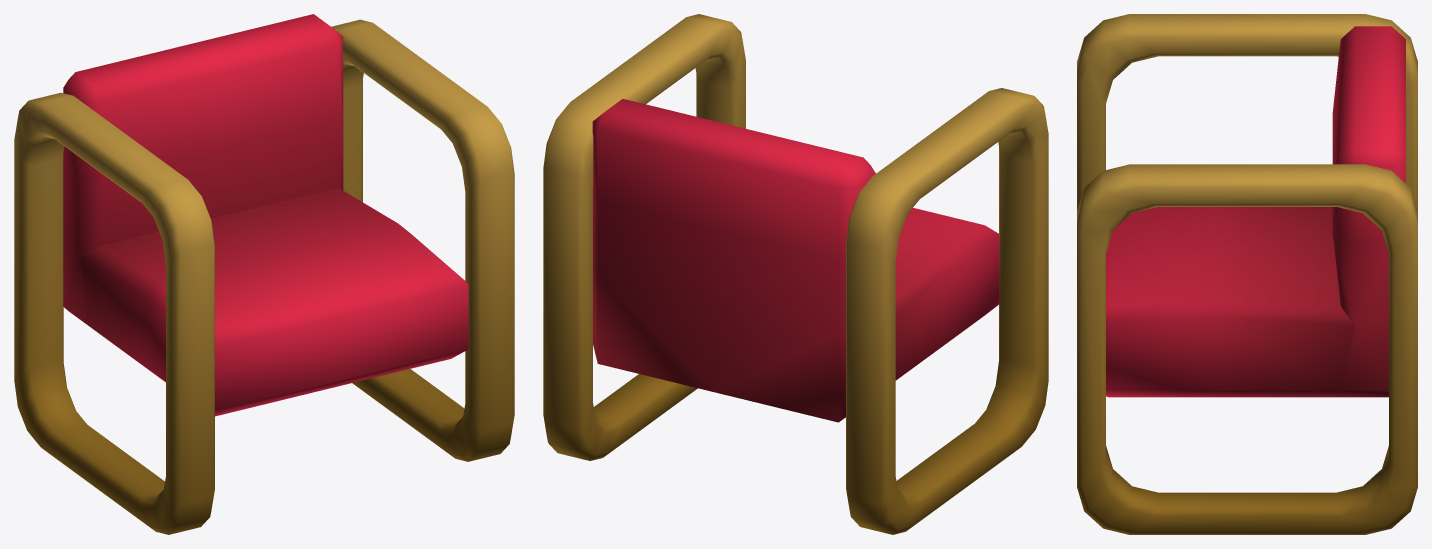
The model's file is chair.fbx.
3 renders of one model, left to right at view 1: azimuth 30°, elevation 25°; view 2: azimuth 150°, elevation 25°; view 3: azimuth 270°, elevation 25°, orthographic. The views are drawn at different scales.
Parts seen in each view (by area): view 1: chair; view 2: chair; view 3: chair.
Part boxes in pixels (x1=…): chair: x1=14, y1=14, x2=514, y2=534; chair: x1=543, y1=14, x2=1048, y2=534; chair: x1=1077, y1=14, x2=1417, y2=534.
Bounding box in the file's own units: 112 × 94.47 × 112.
